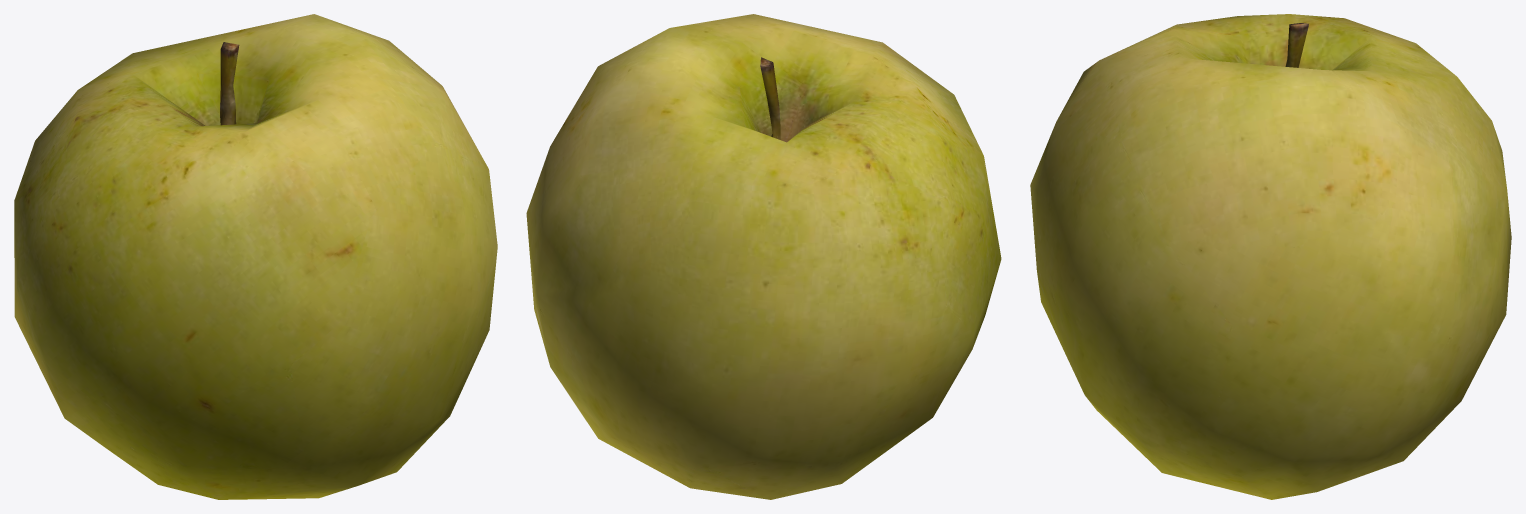
The model's file is td3nedtla_tier_3.gltf.
3 views of the same model, side by side, from view 1: azimuth 30°, elevation 25°; view 2: azimuth 150°, elevation 25°; view 3: azimuth 270°, elevation 25° (orthographic). The views are drawn at different scales.
Parts seen in each view (by area): view 1: td3nedtla_LOD0_TIER3_000; view 2: td3nedtla_LOD0_TIER3_000; view 3: td3nedtla_LOD0_TIER3_000.
Boxes of the visible parts, box(x1,y1,x2,y2) form: td3nedtla_LOD0_TIER3_000: box(14, 14, 497, 499); td3nedtla_LOD0_TIER3_000: box(526, 14, 1001, 499); td3nedtla_LOD0_TIER3_000: box(1030, 14, 1511, 499).
Size of the model in its own units: 0.106 by 0.1009 by 0.1039.
Materials: 1 (1 with a texture image).
